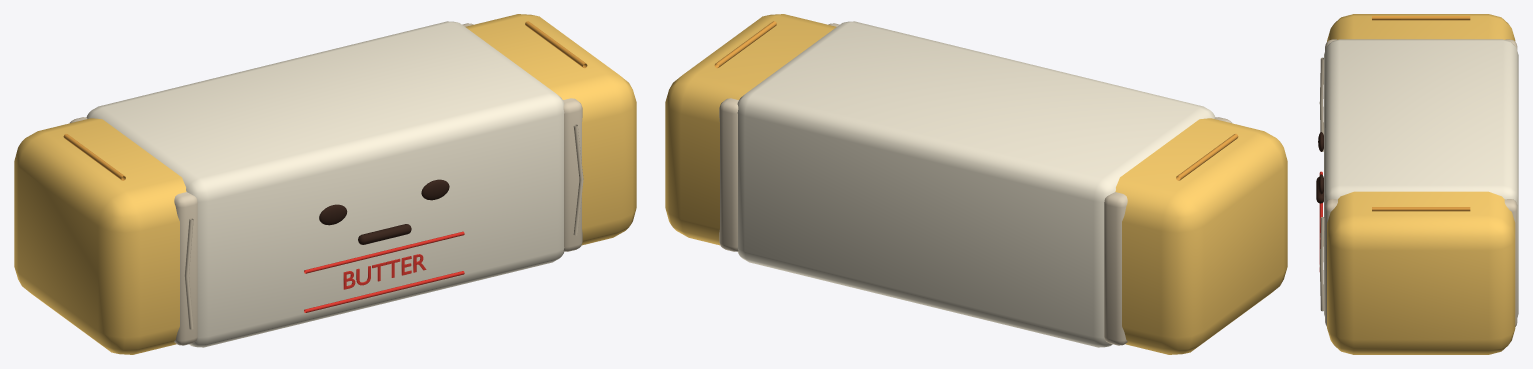
The model's file is butter_bar.glb.
3 renders of one model, left to right at view 1: azimuth 30°, elevation 25°; view 2: azimuth 150°, elevation 25°; view 3: azimuth 270°, elevation 25°, orthographic. The views are drawn at different scales.
Visible parts, largest first — view 1: ButterBar_WaxPaperSleeve, ButterBar_ButterCore, ButterBar_WrapperCollar_L, ButterBar_WrapperCollar_R, ButterBar_Label, ButterBar_LabelRule_2, ButterBar_LabelRule_1, ButterBar_mouth, ButterBar_FrontCrease_L, ButterBar_FrontCrease_R; view 2: ButterBar_WaxPaperSleeve, ButterBar_ButterCore, ButterBar_WrapperCollar_L, ButterBar_WrapperCollar_R; view 3: ButterBar_ButterCore, ButterBar_WaxPaperSleeve, ButterBar_WrapperCollar_R, ButterBar_ExposedScore_L, ButterBar_ExposedScore_R, ButterBar_FrontCrease_R, ButterBar_FrontCrease_L.
Part boxes in pixels (x1,y1,x2,y2): ButterBar_WaxPaperSleeve: [86, 21, 564, 347]; ButterBar_ButterCore: [14, 14, 636, 354]; ButterBar_WrapperCollar_L: [70, 117, 197, 345]; ButterBar_WrapperCollar_R: [462, 23, 582, 251]; ButterBar_Label: [343, 254, 426, 289]; ButterBar_LabelRule_2: [304, 231, 464, 273]; ButterBar_LabelRule_1: [304, 271, 464, 312]; ButterBar_mouth: [358, 224, 411, 244]; ButterBar_FrontCrease_L: [184, 218, 193, 329]; ButterBar_FrontCrease_R: [573, 124, 583, 235]; ButterBar_WaxPaperSleeve: [737, 21, 1215, 347]; ButterBar_ButterCore: [665, 14, 1287, 354]; ButterBar_WrapperCollar_L: [1104, 117, 1231, 345]; ButterBar_WrapperCollar_R: [719, 23, 839, 251]; ButterBar_ButterCore: [1327, 14, 1515, 354]; ButterBar_WaxPaperSleeve: [1324, 39, 1518, 317]; ButterBar_WrapperCollar_R: [1325, 199, 1517, 326]; ButterBar_ExposedScore_L: [1372, 16, 1470, 20]; ButterBar_ExposedScore_R: [1372, 207, 1470, 211]; ButterBar_FrontCrease_R: [1319, 217, 1324, 311]; ButterBar_FrontCrease_L: [1319, 57, 1323, 151].
Size of the model in its own units: 2.56 by 0.778 by 0.987.
